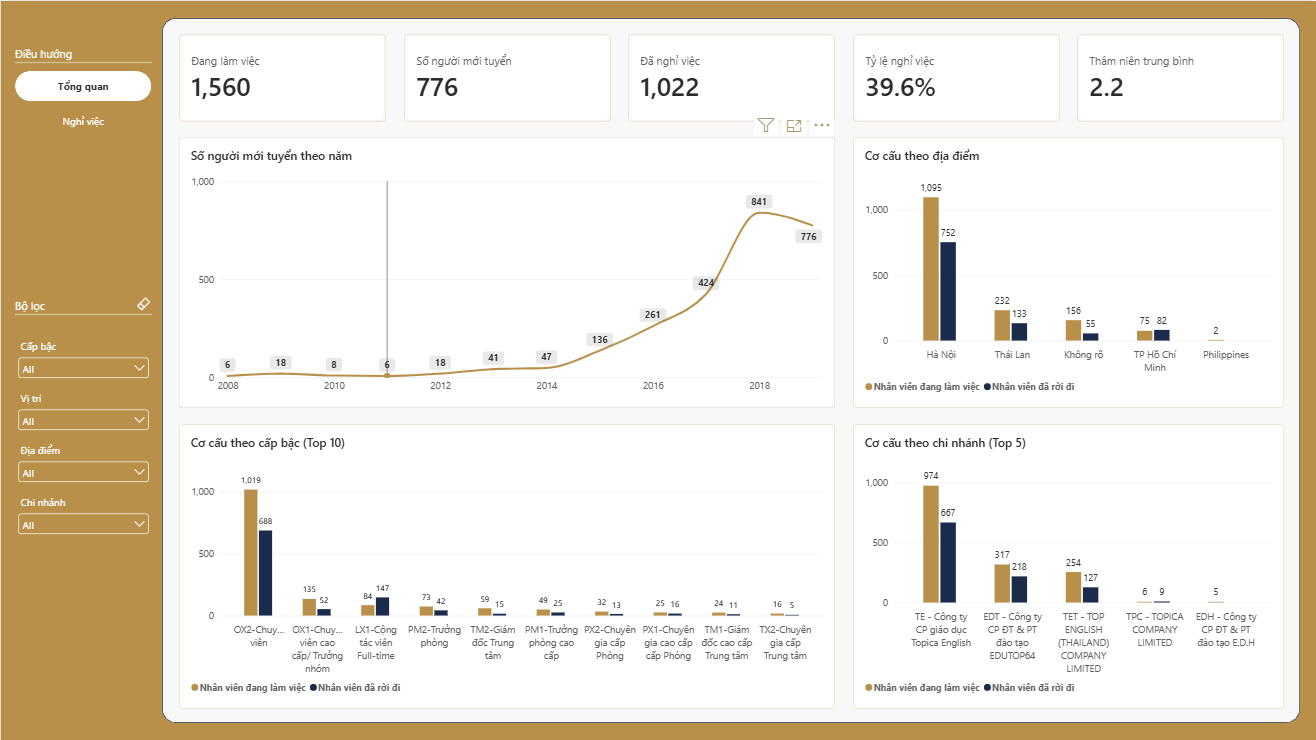

This screenshot's page, from the dashboard's own definition file:
{"tool":"powerbi","page":{"name":"overview dashboard","canvas":[1280,720],"ordinal":0},"visuals":[{"type":"pivotTable","fields":{"Values":["CountNonNull(HR_DATA.Mã nhân viên)"],"Rows":["HR_DATA.statement_type","HR_DATA.statement_name"]},"box":[0,439.8,640,280.7],"z":0},{"type":"barChart","title":"Tổng số nhân viên theo chi nhánh","fields":{"Category":["HR_DATA.PT"],"Y":["CountNonNull(HR_DATA.Mã nhân viên)"]},"box":[640,159,640,280.7],"z":1000},{"type":"card","fields":{"Values":["CountNonNull(HR_DATA.Mã nhân viên)"]},"box":[225.1,51.7,189.7,104.4],"z":2000},{"type":"card","fields":{"Values":["CountNonNull(HR_DATA.Mã nhân viên)"]},"box":[530.8,51.7,217.5,104.4],"z":3000},{"type":"card","fields":{"Values":["CountNonNull(HR_DATA.Mã nhân viên)"]},"box":[848.9,51.7,222.3,104.4],"z":4000},{"type":"shape","box":[0,0,1280,51.7],"z":5000},{"type":"textbox","box":[459.9,0,359.3,51.7],"z":6000},{"type":"columnChart","title":"Tổng số nhân viên bắt đầu làm việc qua các năm","fields":{"Category":["HR_DATA.employee_work_date.Variation.Date Hierarchy.Year"],"Y":["CountNonNull(HR_DATA.Mã nhân viên)"]},"box":[640,439.8,640,280.7],"z":7000},{"type":"clusteredColumnChart","title":"Số nhân sự theo cấp bậc","fields":{"Y":["CountNonNull(HR_DATA.Mã nhân viên)"],"Category":["HR_DATA.CB"]},"box":[0,159,640,281],"z":7001}]}

Visuals, with their boxes on the page's 1280x720 design canvas (x1, y1, x2, y2). These are canvas units, not pixel positions in the 1316x740 screenshot, which may show the page scaled, cropped or inside an application window:
pivotTable - CountNonNull(HR_DATA.Mã nhân viên) x HR_DATA.statement_type: 0:440:640:720
"Tổng số nhân viên theo chi nhánh" barChart: 640:159:1280:440
card - CountNonNull(HR_DATA.Mã nhân viên): 225:52:415:156
card - CountNonNull(HR_DATA.Mã nhân viên): 531:52:748:156
card - CountNonNull(HR_DATA.Mã nhân viên): 849:52:1071:156
shape: 0:0:1280:52
textbox: 460:0:819:52
"Tổng số nhân viên bắt đầu làm việc qua các năm" columnChart: 640:440:1280:720
"Số nhân sự theo cấp bậc" clusteredColumnChart: 0:159:640:440
